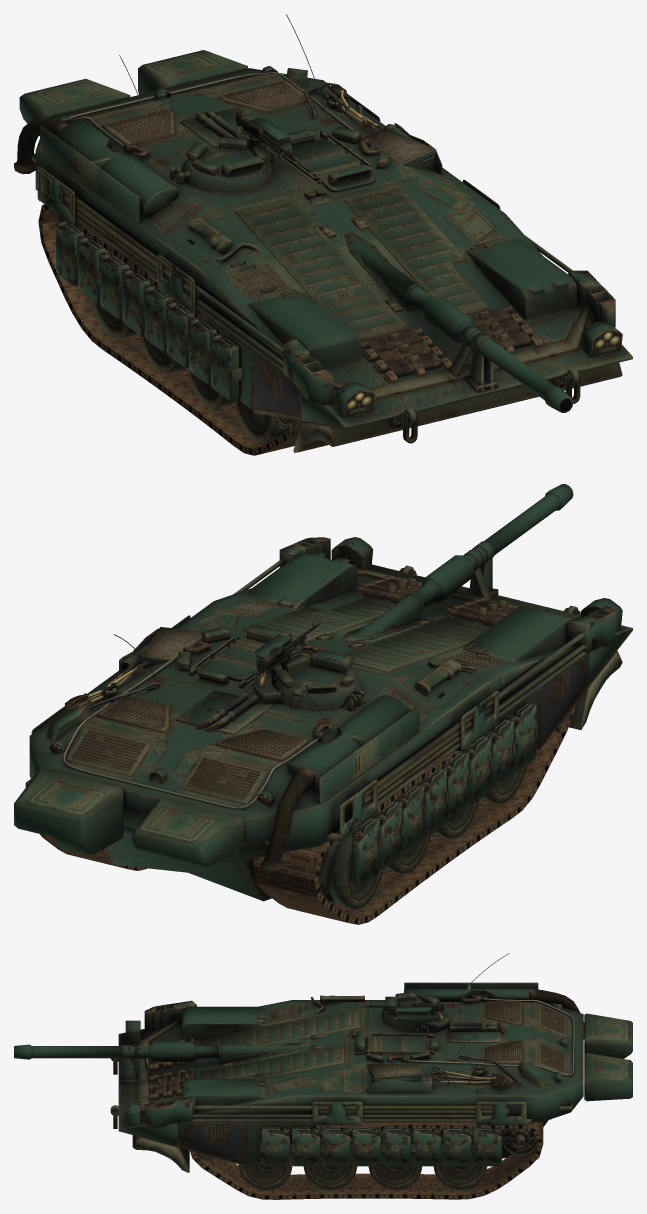
File: strv103_wesiora.glb
The picture shows the model from 3 angles, top to bottom: view 1: azimuth 30°, elevation 25°; view 2: azimuth 150°, elevation 25°; view 3: azimuth 270°, elevation 25°; orthographic projection. The views are drawn at different scales.
Visible parts, largest first — view 1: Body.004_Plane.015, Cube.028_Cube.099, Track.R, Wheel1.R, Wheel4.R, Wheel3.R, Wheel2.R; view 2: Body.004_Plane.015, Cube.028_Cube.099, Track.R, Wheel4.R, Wheel2.R, Wheel3.R, Wheel1.R; view 3: Body.004_Plane.015, Cube.028_Cube.099, Track.L, Wheel4.L, Wheel3.L, Wheel2.L, Wheel1.L, Wheel5.L.
Boxes of the visible parts, x1,y1,x2,y2 form: Body.004_Plane.015: (14, 14, 632, 452); Cube.028_Cube.099: (39, 84, 581, 443); Track.R: (38, 204, 302, 455); Wheel1.R: (234, 398, 289, 442); Wheel4.R: (92, 258, 161, 338); Wheel3.R: (140, 293, 203, 373); Wheel2.R: (187, 367, 234, 408); Body.004_Plane.015: (14, 484, 632, 901); Cube.028_Cube.099: (64, 565, 580, 885); Track.R: (253, 704, 575, 924); Wheel4.R: (319, 827, 382, 908); Wheel2.R: (405, 776, 478, 838); Wheel3.R: (358, 792, 430, 873); Wheel1.R: (471, 747, 526, 803); Body.004_Plane.015: (14, 953, 632, 1172); Cube.028_Cube.099: (110, 1001, 551, 1166); Track.L: (190, 1122, 543, 1199); Wheel4.L: (433, 1130, 487, 1190); Wheel3.L: (368, 1129, 422, 1190); Wheel2.L: (303, 1130, 357, 1190); Wheel1.L: (238, 1147, 292, 1190); Wheel5.L: (502, 1128, 537, 1155).
Bounding box in the file's own units: 3.54 × 2.75 × 8.95.
Materials: 2 (2 with a texture image).
